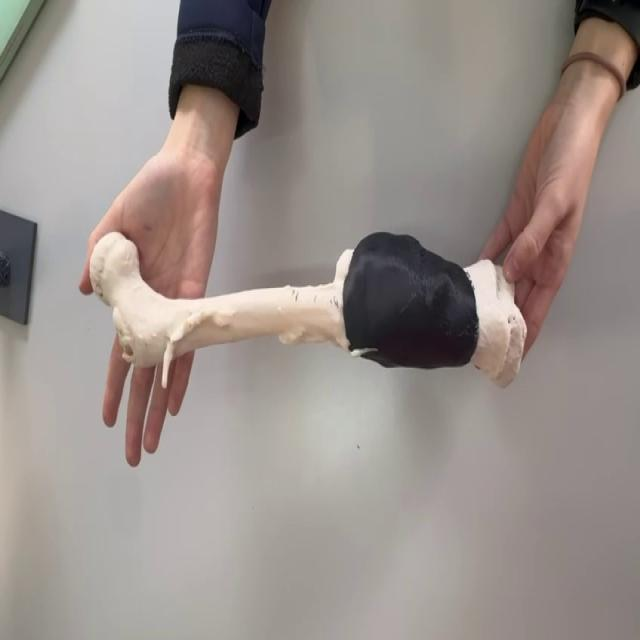bones: (90, 232, 526, 387)
